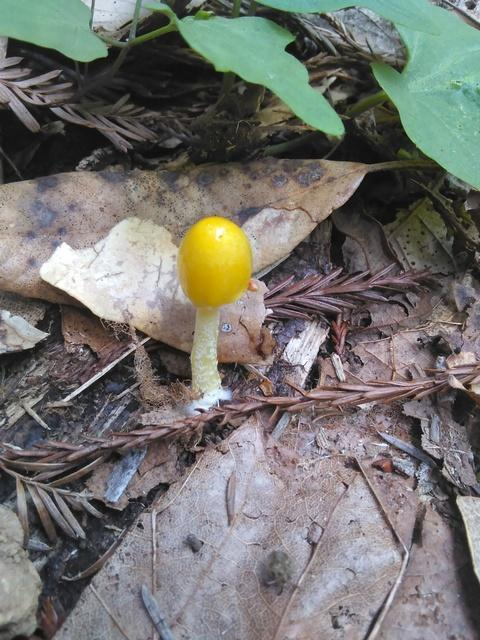edible_mushroom: (175, 215, 253, 414)
